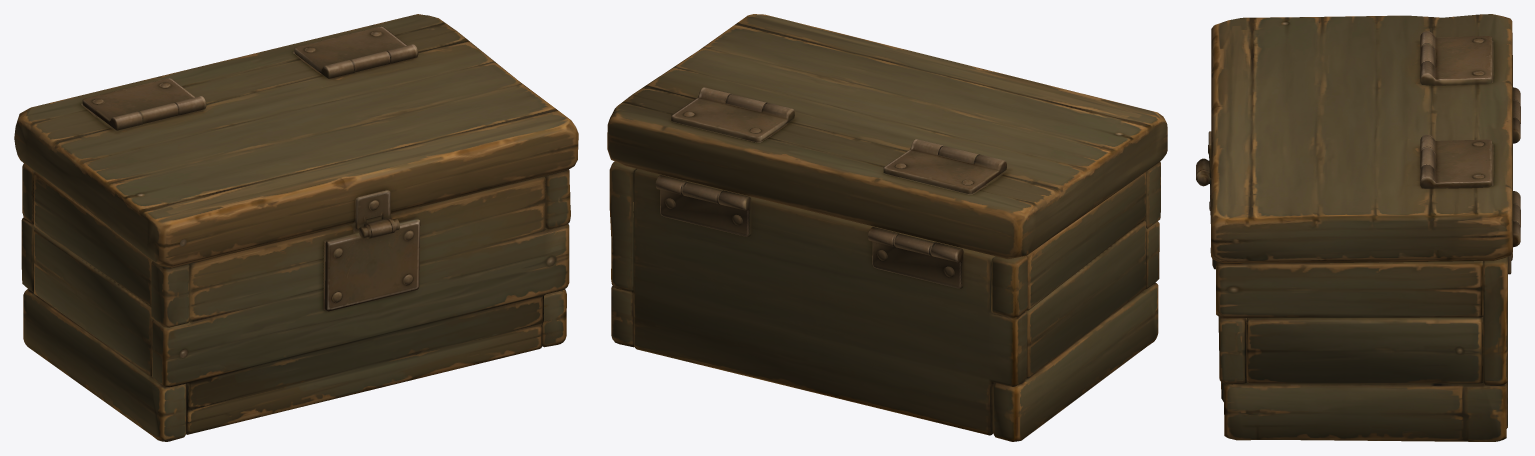
Rendered from small_storage_chest.glb.
The picture shows the model from 3 angles, left to right: view 1: azimuth 30°, elevation 25°; view 2: azimuth 150°, elevation 25°; view 3: azimuth 270°, elevation 25°; orthographic projection.
Parts seen in each view (by area): view 1: tripo_node_f80d83b8-fd30-4f60-af5d-31a14dee3188; view 2: tripo_node_f80d83b8-fd30-4f60-af5d-31a14dee3188; view 3: tripo_node_f80d83b8-fd30-4f60-af5d-31a14dee3188.
Boxes of the visible parts, x1=… form: tripo_node_f80d83b8-fd30-4f60-af5d-31a14dee3188: x1=14, y1=14, x2=578, y2=441; tripo_node_f80d83b8-fd30-4f60-af5d-31a14dee3188: x1=607, y1=14, x2=1167, y2=441; tripo_node_f80d83b8-fd30-4f60-af5d-31a14dee3188: x1=1196, y1=14, x2=1520, y2=441.
Bounding box in the file's own units: 0.9995 × 0.5522 × 0.6724.
Materials: 1 (1 with a texture image).
